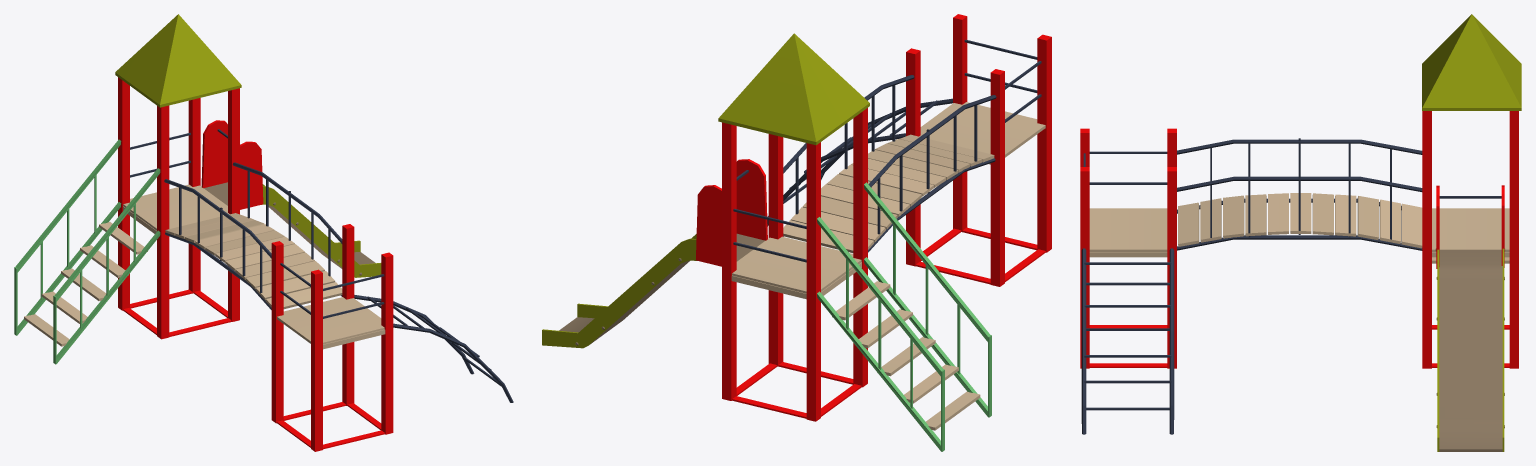
Rendered from SM_Playground_01.fbx.
3 renders of one model, left to right at view 1: azimuth 30°, elevation 25°; view 2: azimuth 150°, elevation 25°; view 3: azimuth 270°, elevation 25°, orthographic. The views are drawn at different scales.
Parts seen in each view (by area): view 1: SM_Playground_01; view 2: SM_Playground_01; view 3: SM_Playground_01.
Boxes of the visible parts, bbox=[...] form: SM_Playground_01: bbox=[14, 14, 513, 451]; SM_Playground_01: bbox=[542, 14, 1051, 451]; SM_Playground_01: bbox=[1080, 14, 1521, 451].
Size of the model in its own units: 384 by 323 by 388.
Materials: 1 (1 with a texture image).
